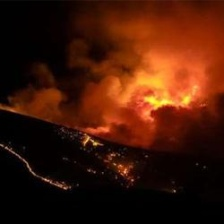fire: (134, 70, 197, 110), (102, 150, 140, 186), (70, 125, 101, 148)
